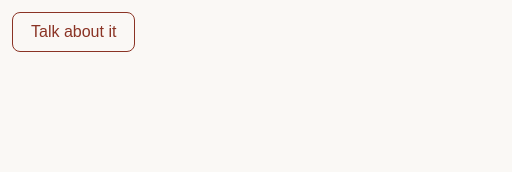
it: VoiceInputButton -- onend (browser auto-stop): no auto-restart › onend resets to idle, preserves existing text (no onChange call), and shows the stopped message
The image size is (512, 172).
Click the button.
click(74, 32)  # box x1=12 y1=12 x2=135 y2=52
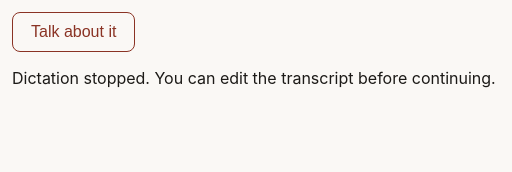
Expected: the text "Dictation stopped. You can edit the transcript before continuing." is shown, x1=12 y1=68 x2=496 y2=88
